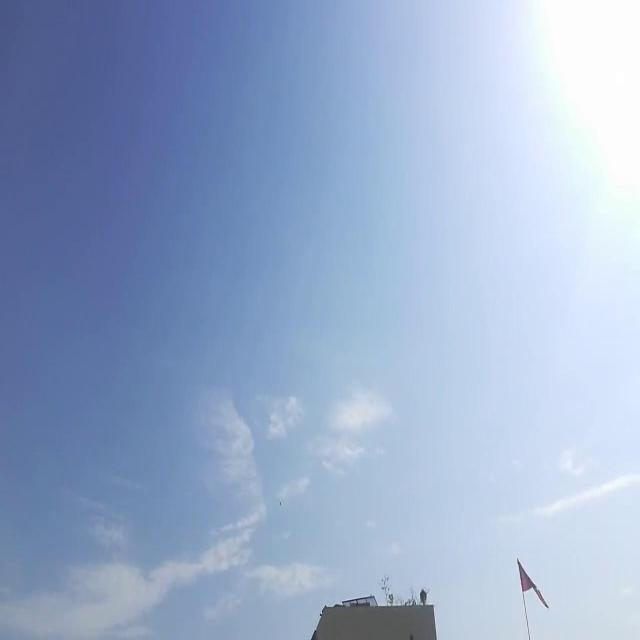other: (538, 0, 632, 259)
